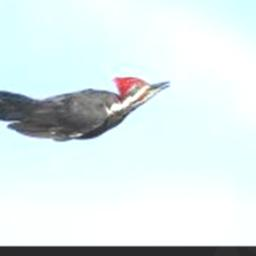Woodpecker: (0, 76, 169, 139)
